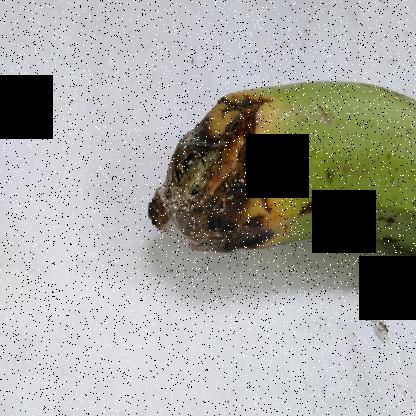rotten: (124, 76, 303, 272)
